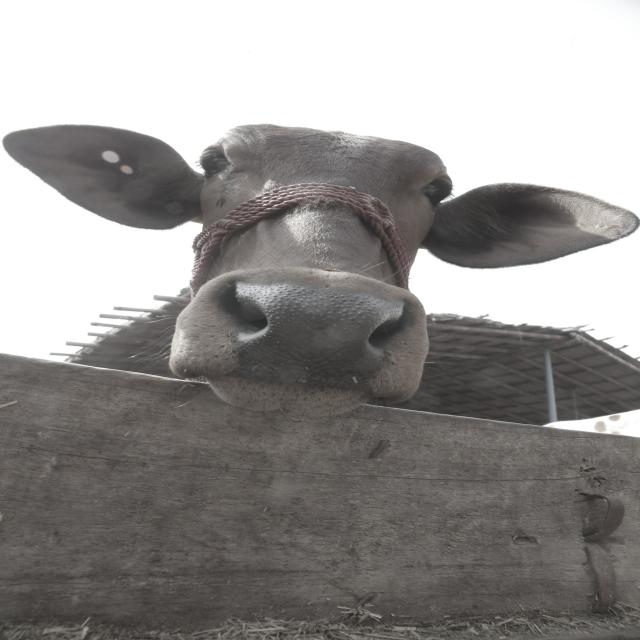muzzles: (221, 277, 414, 395)
